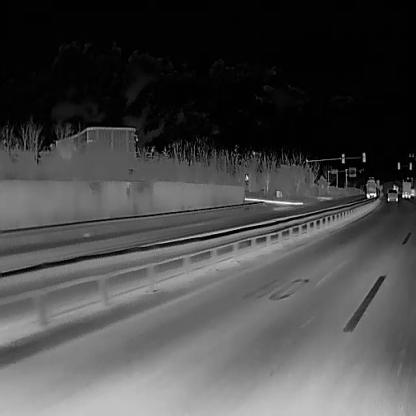car: (386, 188, 397, 202), (409, 188, 415, 197)
truck: (364, 175, 377, 198), (401, 180, 411, 198), (392, 184, 398, 192)
